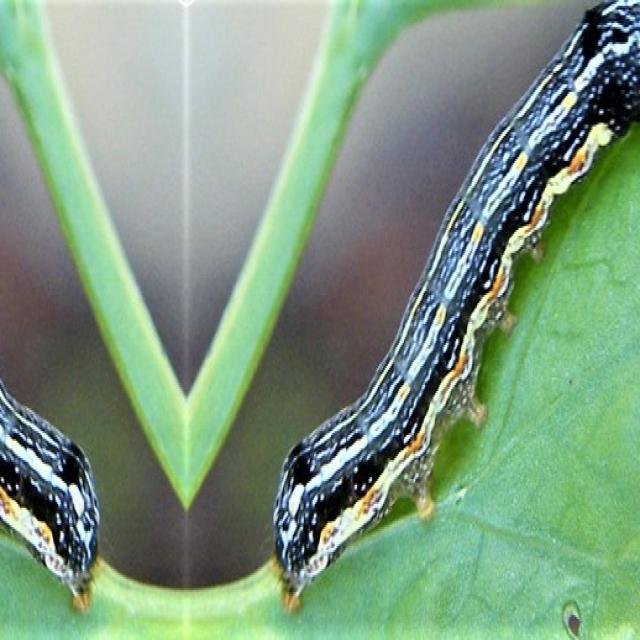Armyworm: (273, 23, 640, 640), (1, 314, 135, 640)
